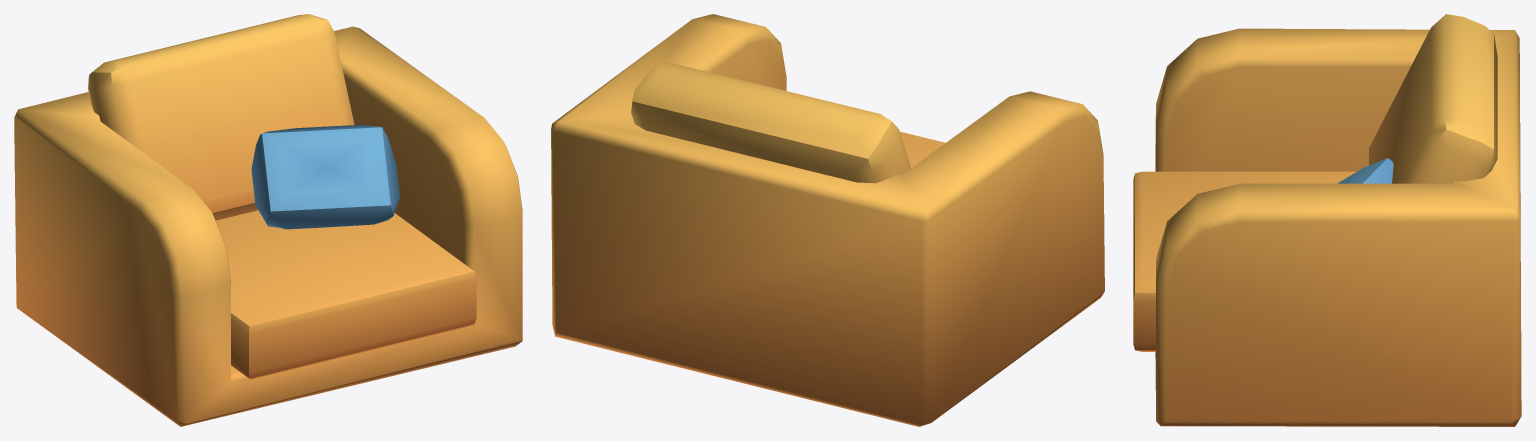
Rendered from cc0-armchair-pillows-lod1.glb.
The picture shows the model from 3 angles, left to right: view 1: azimuth 30°, elevation 25°; view 2: azimuth 150°, elevation 25°; view 3: azimuth 270°, elevation 25°; orthographic projection. The views are drawn at different scales.
Visible parts, largest first — view 1: part_0; view 2: part_0; view 3: part_0.
Part boxes in pixels (box(x1,y1,x2,y2)): part_0: box(14, 14, 522, 426); part_0: box(551, 14, 1104, 426); part_0: box(1133, 14, 1521, 426).
Size of the model in its own units: 1.8 by 1.22 by 1.59.
Materials: 1 (1 with a texture image).
